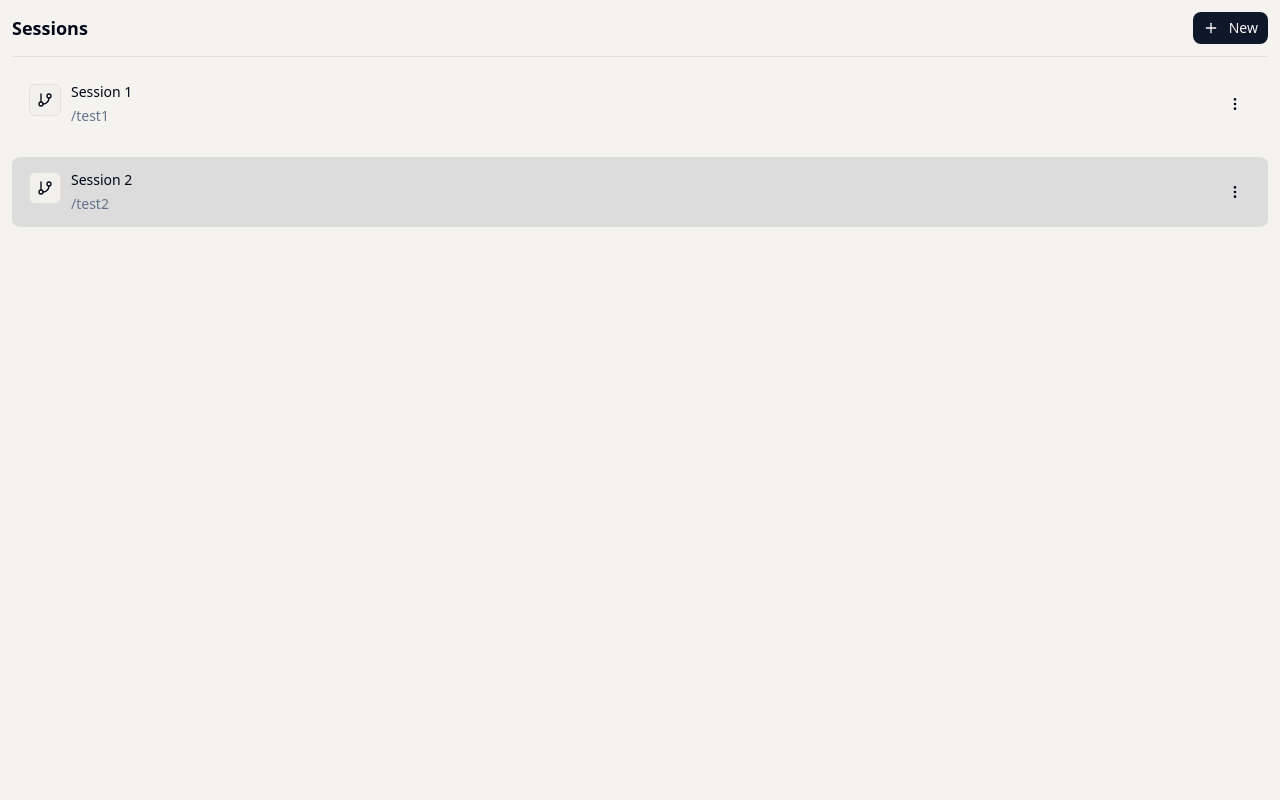
Test: SessionList › should open new session dialog when new button clicked
The width and height of the screenshot is (1280, 800).
Click the button "New" at (1230, 28), box [1193,12,1268,44]
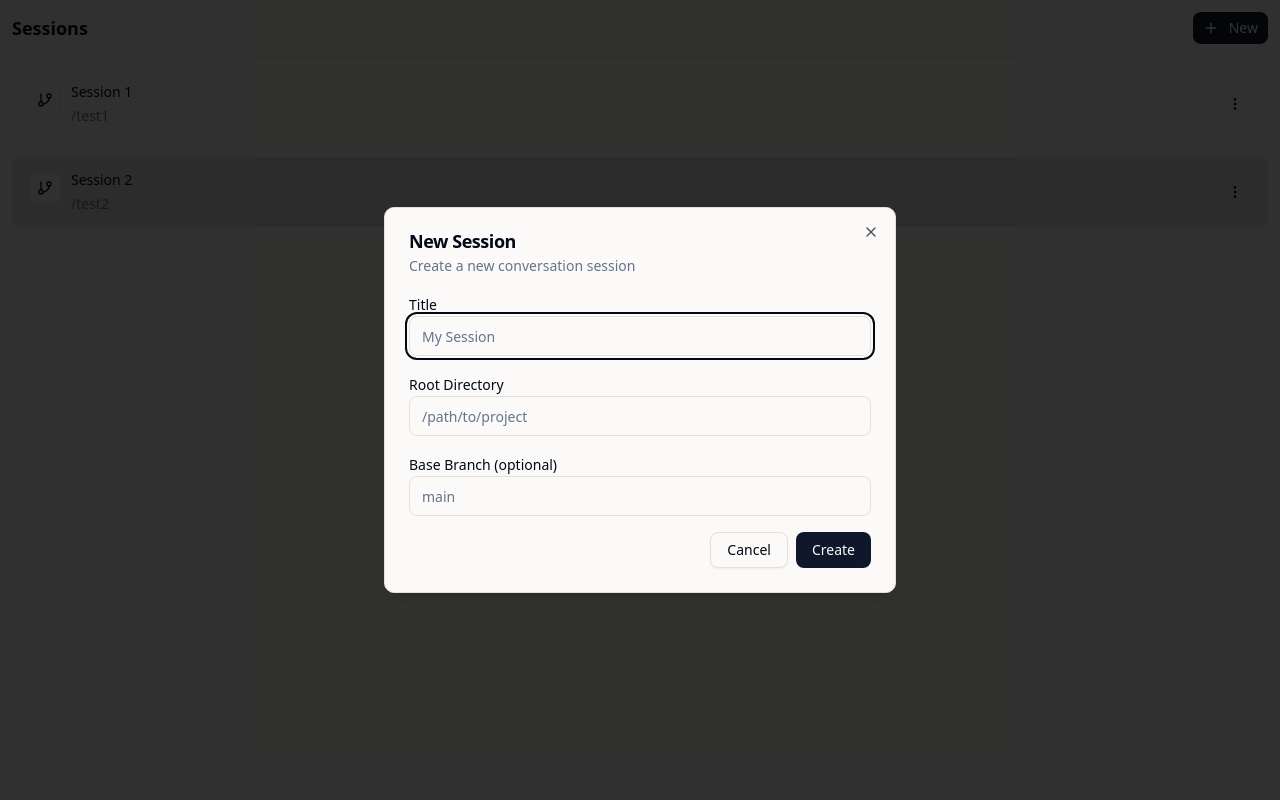
Result: the dialog is shown at [384,207,896,593]
